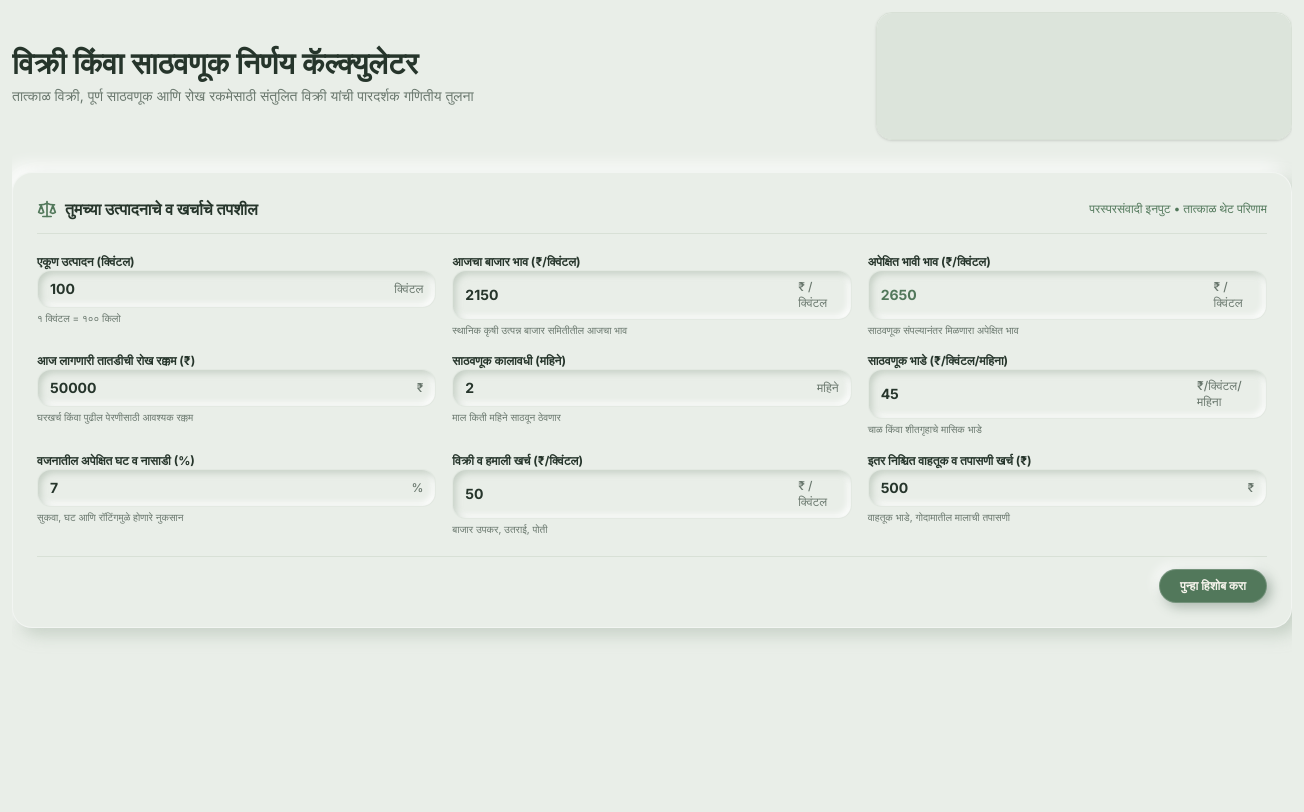
it: CalculatorPage › TC-CALC-03: Displays API error banner when evaluation fails
The image size is (1304, 812).
What coordinates should you click on to do the following:
click the button "पुन्हा हिशोब करा"
I would click on:
 (1213, 586)
Its box is left=1159, top=569, right=1267, bottom=603.
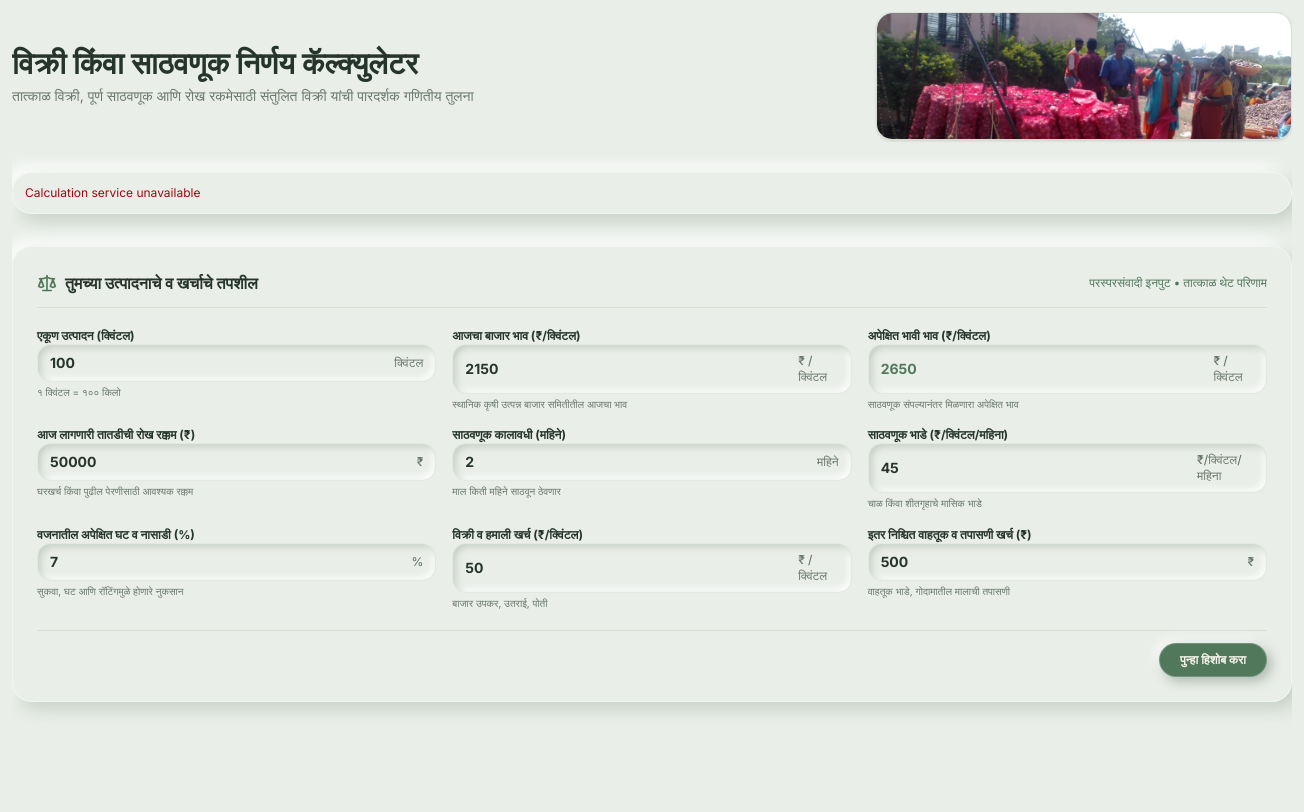
Result: the text "Calculation service unavailable" is shown at left=12, top=172, right=1292, bottom=214
